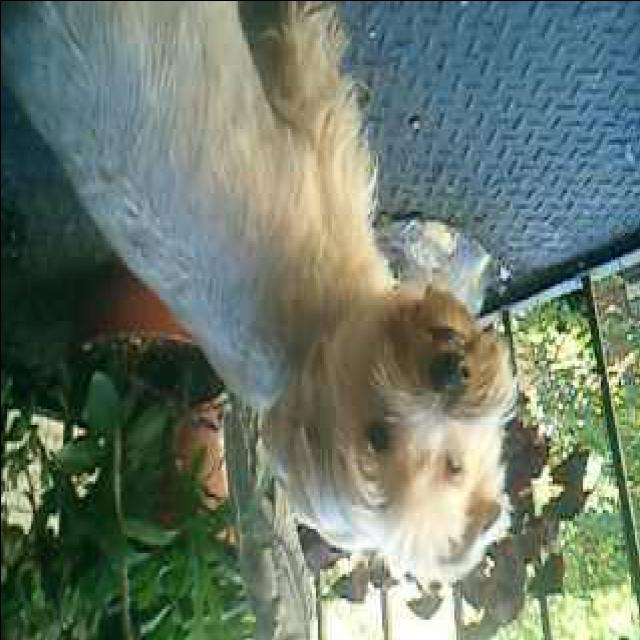dog: (1, 0, 526, 606)
